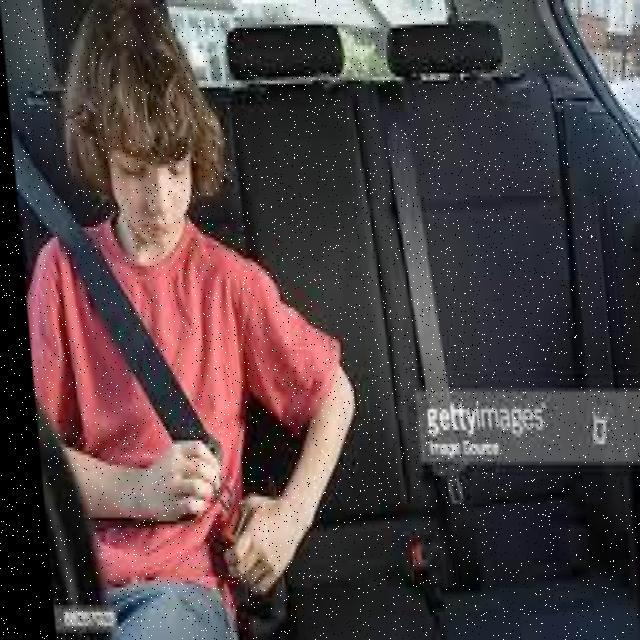seatbelt: (29, 209, 262, 590)
